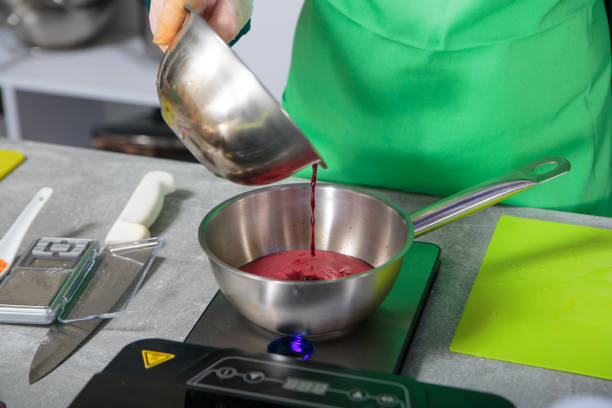knife: (26, 169, 179, 386)
